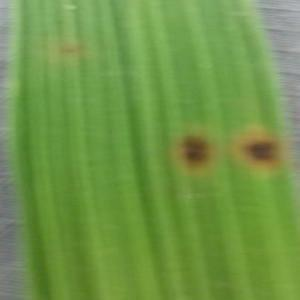0 BrownSpot: (233, 121, 289, 182), (165, 123, 221, 179), (52, 35, 87, 61), (49, 14, 66, 27)
